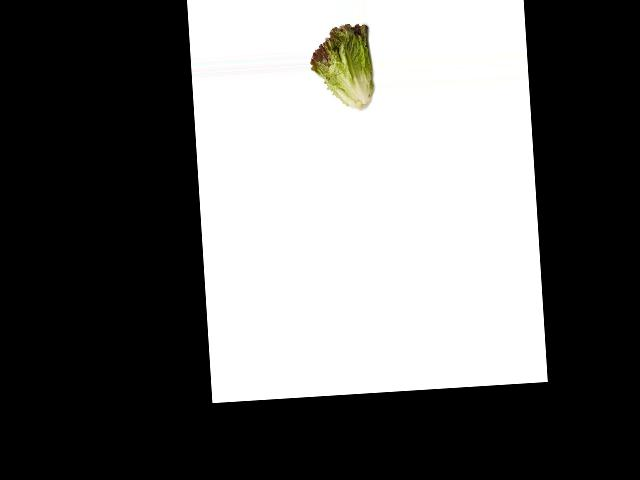lettuce: (309, 21, 373, 111)
